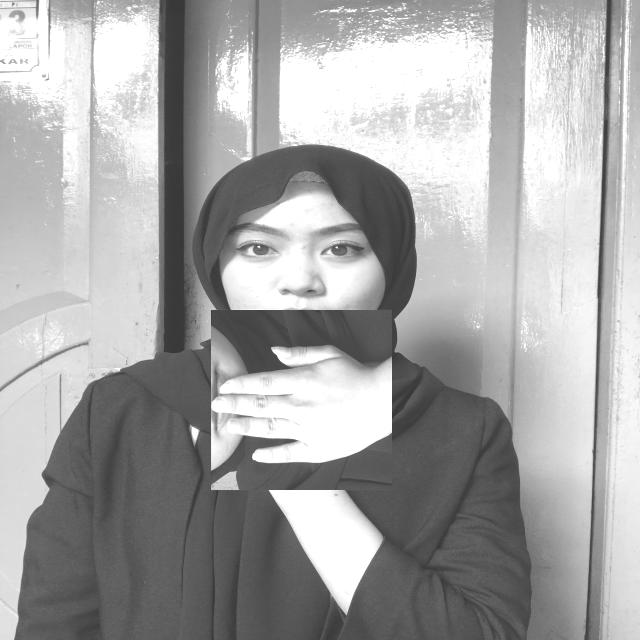ganteng: (212, 309, 392, 491)
